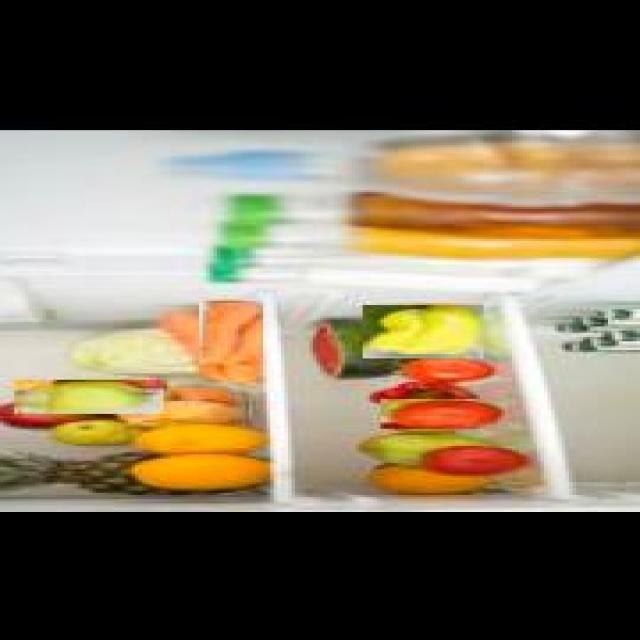apple: (14, 376, 164, 411)
bell_pepper: (364, 303, 486, 356)
carrot: (160, 307, 260, 386), (199, 296, 263, 362)
tomato: (381, 396, 508, 426), (377, 356, 498, 382)
